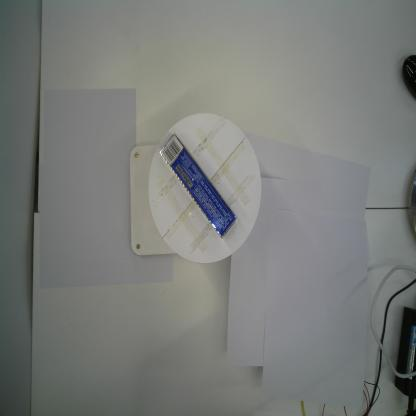Personal Hygiene: (158, 132, 236, 239)
